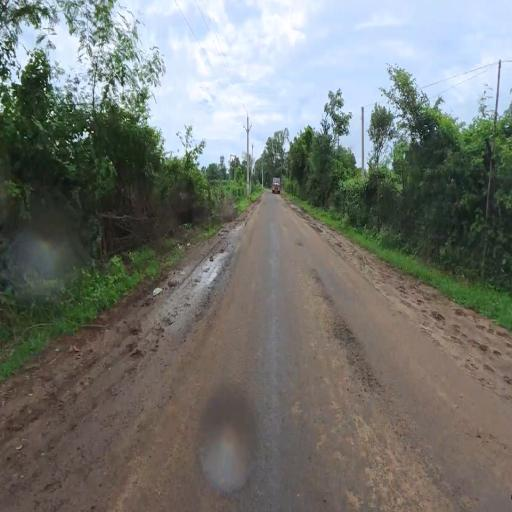ravelling: (285, 254, 392, 498)
